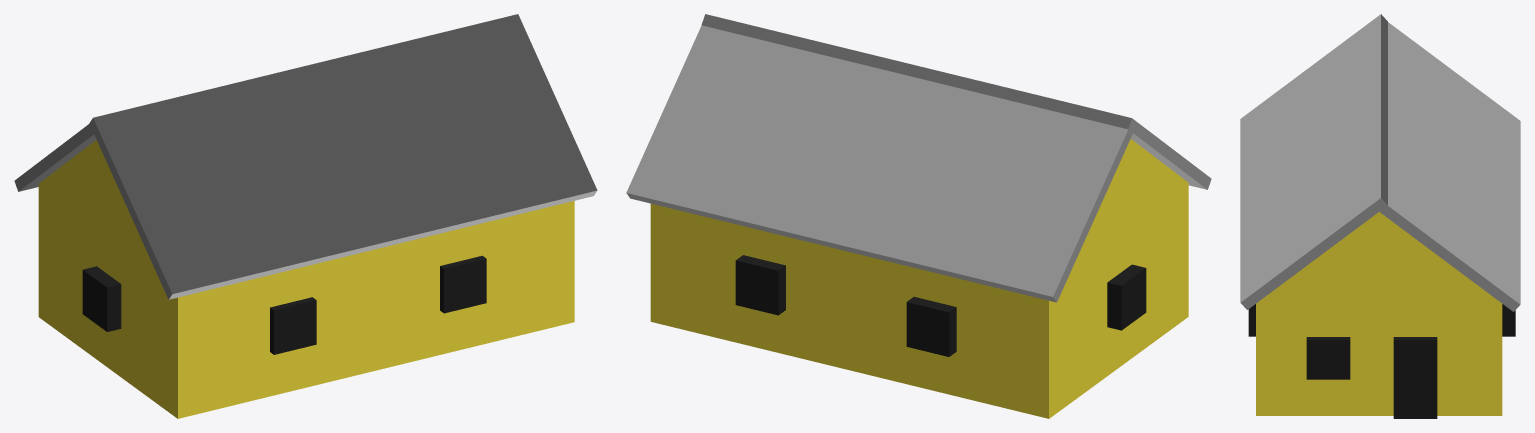
Rendered from House1.fbx.
3 renders of one model, left to right at view 1: azimuth 30°, elevation 25°; view 2: azimuth 150°, elevation 25°; view 3: azimuth 270°, elevation 25°, orthographic. The views are drawn at different scales.
Parts seen in each view (by area): view 1: House1; view 2: House1; view 3: House1.
Part boxes in pixels (x1,y1,x2,y2): House1: (14,14,597,418); House1: (626,14,1211,418); House1: (1240,14,1520,418).
Bounding box in the file's own units: 500 × 284 × 322.
